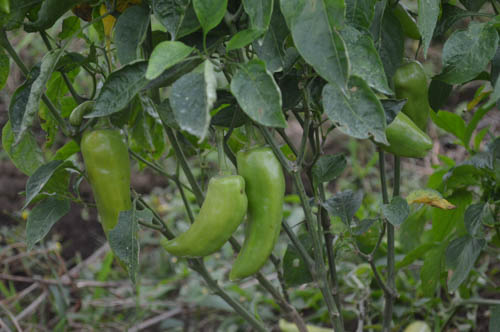ChiliPepper: (229, 149, 284, 287), (157, 176, 246, 259), (84, 132, 130, 226), (374, 114, 436, 160), (396, 58, 434, 126)
